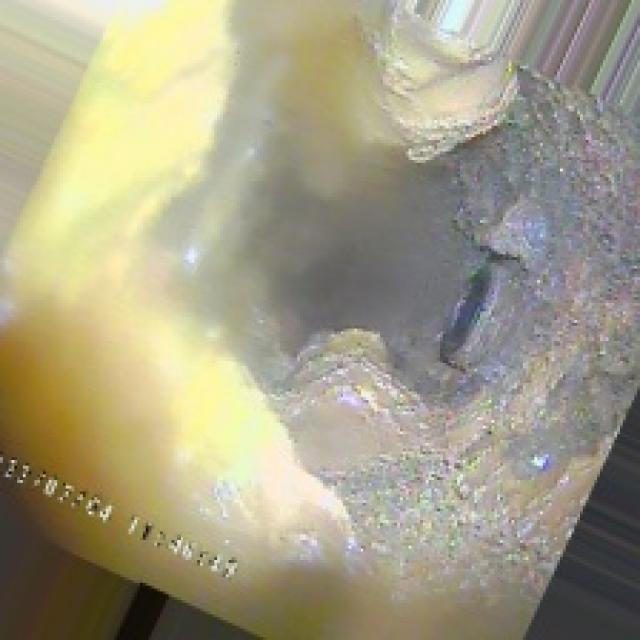encrustation: (311, 37, 580, 489)
ferrule: (437, 263, 512, 371)
